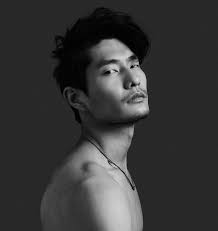asian_male: (58, 13, 154, 141)
